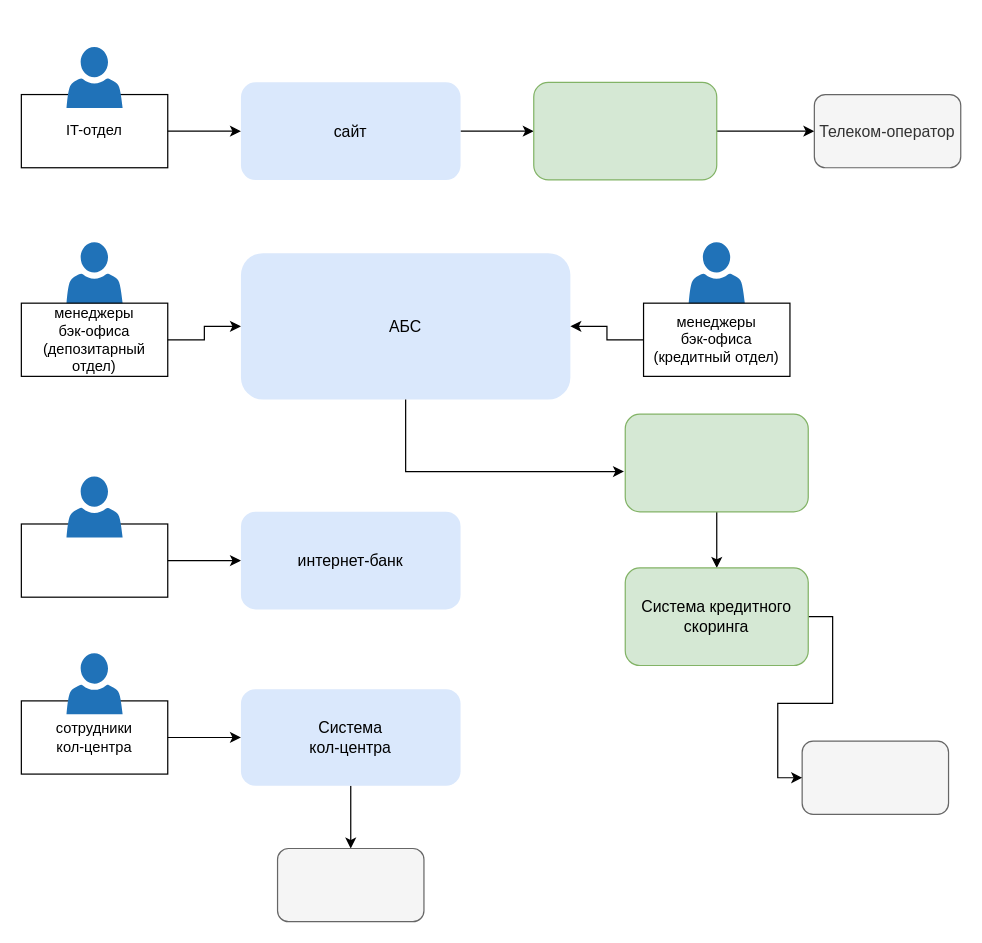
Image size: 982x943. Some labels were removed from this diagram. The shapes that lost their labels are listed below. From the top down, each one's centre as x and y in pixels, then its label:
At [625,130]: "СМС-шлюз телеком-оператора".
At [716,462]: "Кредитный конвейер".
At [94,560]: "менеджеры фронт-офиса".
At [875,777]: "Бюро кредитных историй".
At [350,884]: "Система партнерского кол-центра".
